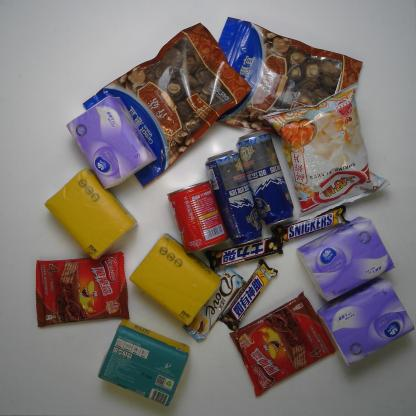Alcohol: (236, 130, 294, 226), (206, 150, 262, 244)
Canned Food: (168, 181, 229, 254)
Chocolate: (182, 264, 245, 341), (218, 259, 278, 332), (203, 231, 285, 271), (272, 206, 349, 245)
Dessert: (229, 291, 335, 399), (35, 252, 130, 327)
Dried Food: (82, 23, 252, 188), (196, 17, 362, 154)
Puffed Food: (262, 83, 390, 221)
Tissue: (316, 275, 414, 365), (66, 96, 157, 190), (129, 234, 221, 326), (45, 169, 137, 260), (298, 216, 395, 302), (97, 319, 191, 406)
